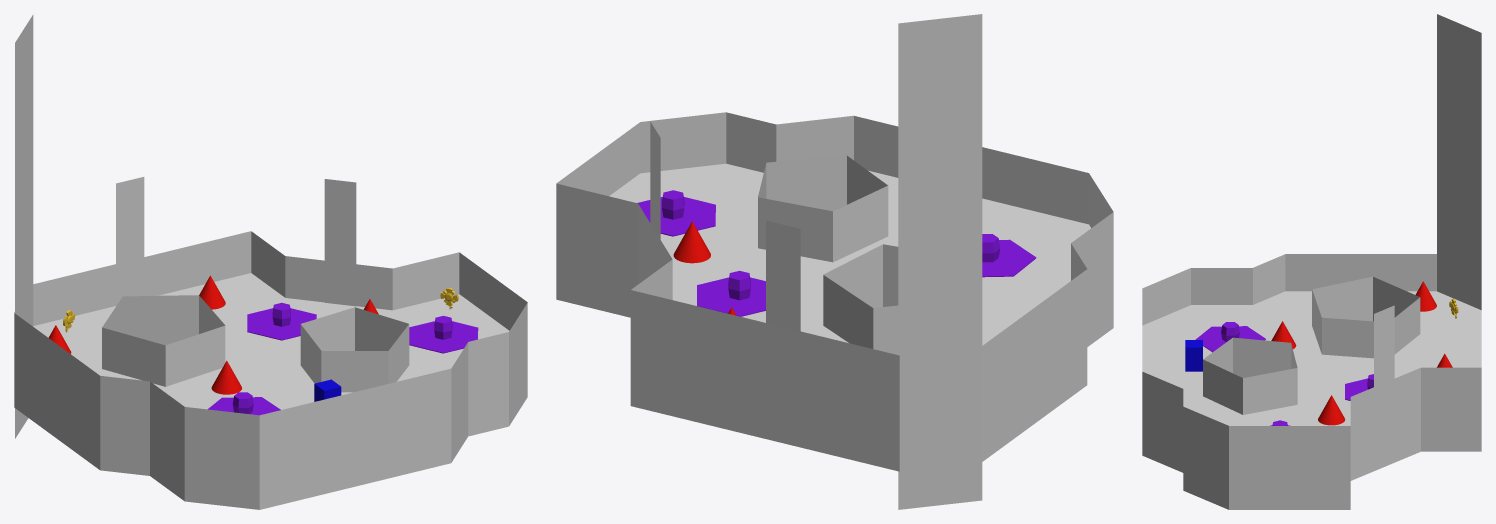
The model's file is Nuevo_N4-Pantano.fbx.
3 renders of one model, left to right at view 1: azimuth 30°, elevation 25°; view 2: azimuth 150°, elevation 25°; view 3: azimuth 270°, elevation 25°, orthographic. The views are drawn at different scales.
Visible parts, largest first — view 1: Limite 1-4, Limite 1-4.001, Arbol Sequoia.002, Arbol.012, Arbol.013, Barriles en Barro.005, Barriles en Barro.006, Barriles en Barro.007, Spawn.012; view 2: Limite 1-4, Limite 1-4.001, Arbol Sequoia.002, Arbol.013, Barriles en Barro.006, Barriles en Barro.005, Barriles en Barro.007, Arbol.012, Spawn.013; view 3: Limite 1-4, Limite 1-4.001, Arbol Sequoia.002, Arbol.012, Barriles en Barro.007, Jugador.005, Spawn.013, Barriles en Barro.006.
Boxes of the visible parts, bbox=[...] form: Limite 1-4: bbox=[14, 231, 527, 457]; Limite 1-4.001: bbox=[14, 273, 527, 509]; Arbol Sequoia.002: bbox=[15, 14, 33, 438]; Arbol.012: bbox=[324, 179, 356, 306]; Arbol.013: bbox=[116, 177, 144, 305]; Barriles en Barro.005: bbox=[409, 315, 478, 353]; Barriles en Barro.006: bbox=[247, 302, 316, 340]; Barriles en Barro.007: bbox=[208, 392, 280, 415]; Spawn.012: bbox=[211, 360, 241, 394]; Limite 1-4: bbox=[556, 112, 1113, 407]; Limite 1-4.001: bbox=[556, 163, 1113, 471]; Arbol Sequoia.002: bbox=[898, 14, 982, 509]; Arbol.013: bbox=[766, 220, 800, 331]; Barriles en Barro.006: bbox=[697, 270, 765, 316]; Barriles en Barro.005: bbox=[637, 190, 715, 236]; Barriles en Barro.007: bbox=[982, 234, 1036, 277]; Arbol.012: bbox=[650, 122, 660, 239]; Spawn.013: bbox=[673, 221, 710, 263]; Limite 1-4: bbox=[1142, 254, 1481, 463]; Limite 1-4.001: bbox=[1142, 291, 1481, 509]; Arbol Sequoia.002: bbox=[1437, 14, 1481, 309]; Arbol.012: bbox=[1374, 305, 1394, 386]; Barriles en Barro.007: bbox=[1195, 322, 1265, 352]; Jugador.005: bbox=[1185, 340, 1202, 371]; Spawn.013: bbox=[1318, 395, 1345, 425]; Barriles en Barro.006: bbox=[1345, 374, 1373, 400].
Bounding box in the file's own units: 1570 × 1502 × 1311.
